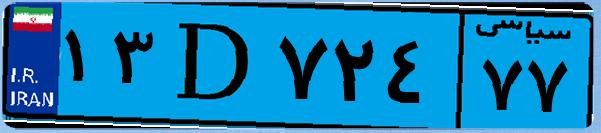1: (57, 26, 110, 100)
2: (330, 28, 385, 110)
3: (110, 28, 158, 98)
4: (385, 28, 445, 110)
7: (270, 28, 330, 110), (475, 38, 525, 113), (525, 38, 570, 115)
D: (158, 12, 270, 120)
